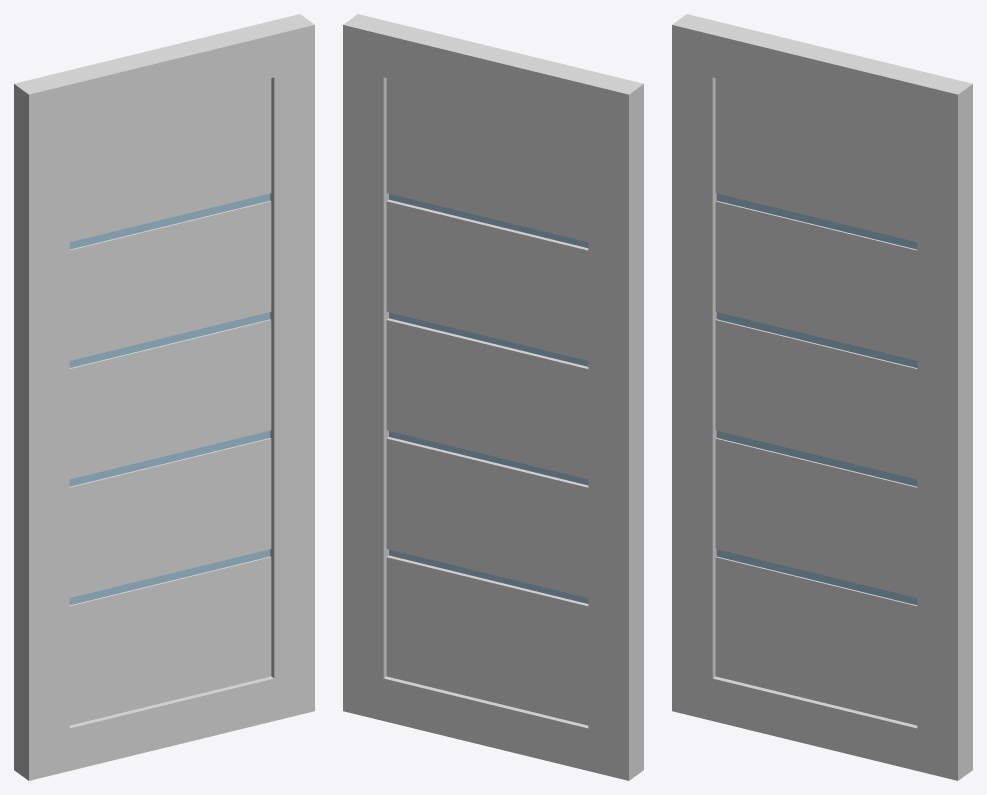
The model's file is Door4_C1.fbx.
3 views of the same model, side by side, from view 1: azimuth 30°, elevation 25°; view 2: azimuth 150°, elevation 25°; view 3: azimuth 330°, elevation 25° (orthographic).
Parts seen in each view (by area): view 1: Door4_C1; view 2: Door4_C1; view 3: Door4_C1.
Part boxes in pixels (x1,y1,x2,y2): Door4_C1: (14,14,314,780); Door4_C1: (343,14,643,780); Door4_C1: (672,14,972,780).
Bounding box in the file's own units: 0.89 × 2.04 × 0.08.
